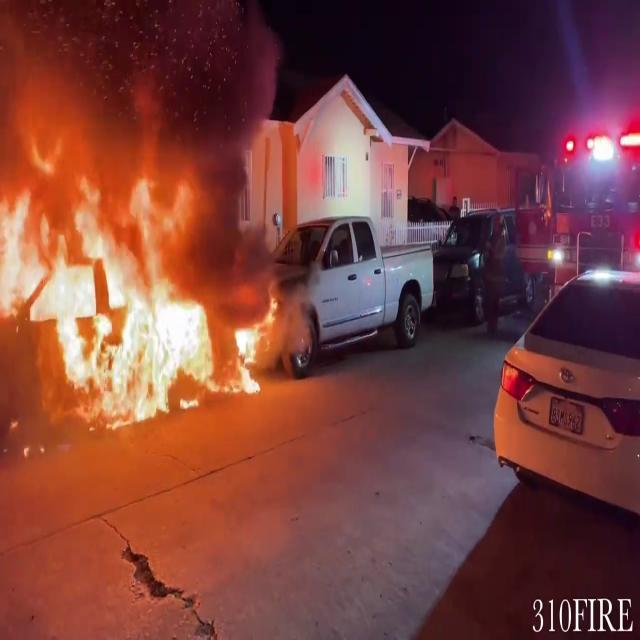Fire: (0, 132, 283, 420)
